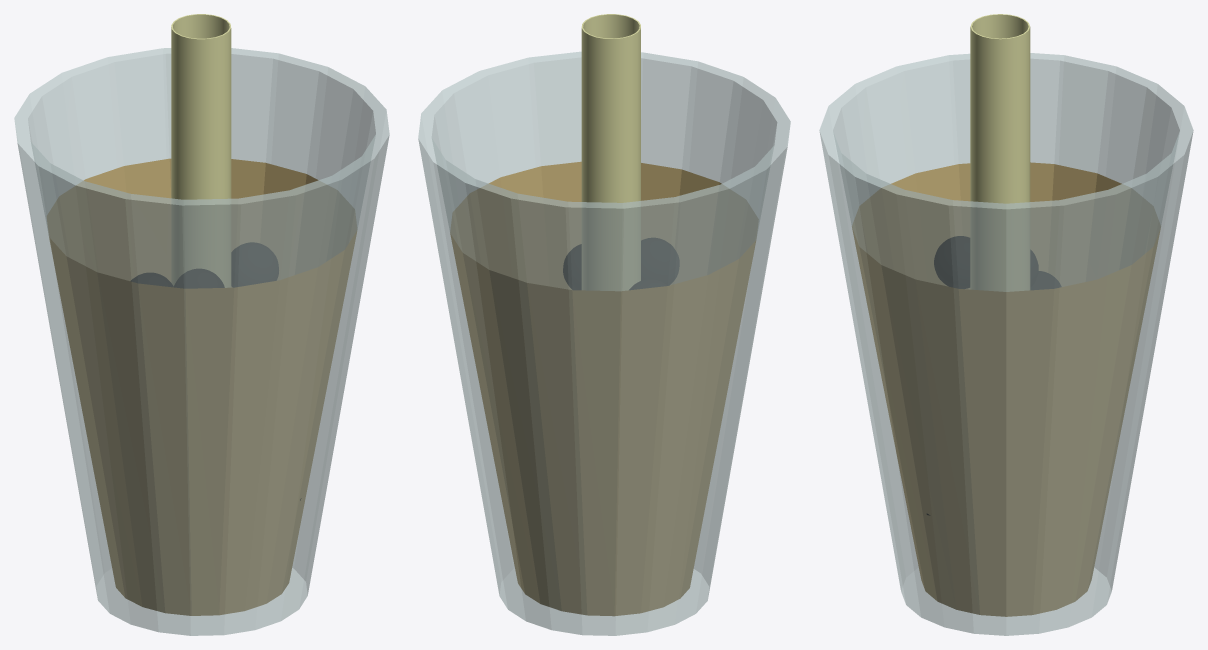
The model's file is drink.fbx.
3 renders of one model, left to right at view 1: azimuth 30°, elevation 25°; view 2: azimuth 150°, elevation 25°; view 3: azimuth 270°, elevation 25°, orthographic.
Visible parts, largest first — view 1: pCylinder2, pPipe1, pSphere25, pSphere21; view 2: pCylinder2, pPipe1, pSphere21, pSphere24; view 3: pCylinder2, pPipe1, pSphere21.
Part boxes in pixels (left/top/right/bottom): pCylinder2: left=14, top=48, right=389, bottom=635; pPipe1: left=171, top=14, right=231, bottom=287; pSphere25: left=231, top=242, right=278, bottom=287; pSphere21: left=174, top=269, right=224, bottom=288; pCylinder2: left=418, top=51, right=790, bottom=635; pPipe1: left=581, top=14, right=640, bottom=290; pSphere21: left=641, top=238, right=679, bottom=285; pSphere24: left=563, top=244, right=581, bottom=289; pCylinder2: left=819, top=53, right=1193, bottom=635; pPipe1: left=970, top=14, right=1030, bottom=291; pSphere21: left=934, top=236, right=969, bottom=288.
Bounding box in the file's own units: 0.3096 × 0.5138 × 0.3096.
